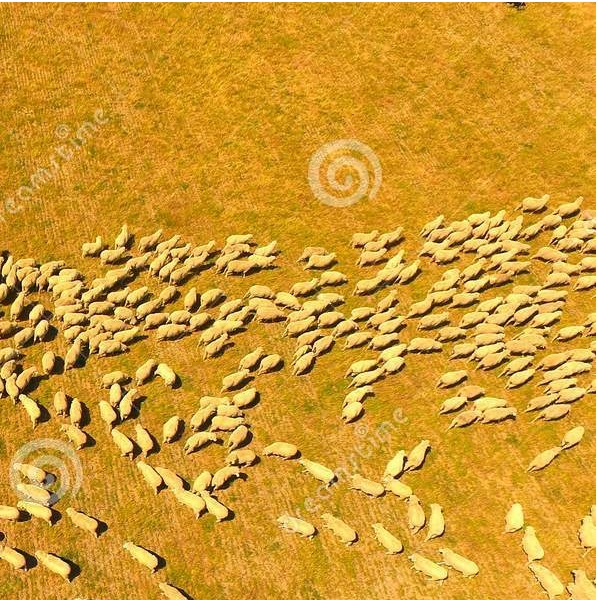sheep: (130, 456, 169, 495), (299, 457, 343, 491), (171, 484, 208, 519), (224, 385, 266, 415), (530, 400, 573, 428), (18, 498, 61, 526), (368, 337, 409, 365), (360, 328, 404, 354), (352, 302, 403, 324), (100, 426, 133, 460), (273, 313, 315, 339), (208, 409, 250, 435), (69, 503, 103, 535), (264, 439, 305, 465), (179, 431, 222, 455), (200, 491, 232, 523), (467, 338, 505, 364), (342, 353, 381, 378), (459, 256, 495, 283), (346, 274, 388, 297), (219, 443, 256, 469), (15, 393, 44, 426), (12, 457, 47, 484), (428, 244, 464, 270), (215, 243, 254, 267), (505, 337, 542, 362), (243, 305, 285, 327), (253, 241, 291, 265), (498, 355, 539, 377), (523, 391, 562, 414), (368, 310, 400, 338), (211, 466, 244, 493), (554, 193, 584, 222), (395, 259, 426, 287), (288, 342, 316, 373), (184, 403, 218, 428), (130, 293, 164, 318), (155, 465, 184, 494), (68, 340, 92, 375), (243, 294, 282, 315), (405, 294, 439, 318), (143, 305, 172, 333), (448, 405, 478, 432), (473, 349, 508, 372), (478, 406, 518, 426), (155, 317, 187, 342), (461, 314, 499, 335), (350, 368, 388, 389), (18, 480, 51, 504), (182, 305, 215, 329), (240, 348, 268, 376), (480, 312, 514, 335), (199, 332, 229, 358), (500, 368, 537, 389), (218, 366, 253, 388), (129, 420, 151, 455), (350, 248, 395, 265), (535, 350, 573, 370), (62, 423, 90, 450), (338, 382, 370, 405), (99, 368, 131, 391), (435, 323, 470, 344), (120, 390, 141, 425), (547, 255, 580, 277), (80, 235, 110, 259), (455, 305, 489, 326), (556, 358, 590, 379), (558, 426, 589, 449), (185, 284, 208, 315), (470, 393, 507, 412), (105, 320, 142, 339), (15, 366, 40, 394), (97, 400, 121, 429), (134, 227, 163, 251), (559, 231, 582, 261), (192, 324, 223, 346), (133, 358, 153, 392), (156, 362, 182, 388), (378, 354, 406, 378), (276, 288, 305, 311), (492, 289, 531, 306), (414, 311, 453, 328), (530, 285, 563, 305), (320, 268, 353, 288), (65, 398, 87, 428), (473, 295, 509, 313), (470, 330, 506, 348), (340, 400, 368, 423), (330, 317, 358, 340), (189, 471, 217, 494), (40, 258, 72, 278), (194, 390, 229, 408), (58, 283, 79, 313), (245, 281, 282, 298), (375, 264, 408, 283), (123, 282, 147, 308), (168, 241, 195, 264), (226, 258, 257, 278), (97, 248, 128, 268), (315, 306, 343, 328), (544, 377, 585, 392), (219, 233, 260, 248), (552, 386, 590, 402), (438, 369, 470, 388), (285, 279, 323, 295), (293, 330, 325, 349), (104, 265, 136, 284), (440, 265, 470, 285), (162, 415, 182, 445), (159, 282, 183, 307), (521, 219, 547, 242), (358, 236, 393, 253), (205, 316, 240, 333), (247, 253, 282, 270), (305, 253, 338, 271), (344, 301, 377, 319), (292, 298, 325, 316), (199, 286, 226, 308), (43, 352, 64, 380), (538, 365, 572, 382), (349, 229, 383, 246), (99, 340, 131, 358), (223, 423, 246, 448), (370, 284, 392, 310), (535, 244, 565, 263), (260, 353, 288, 373), (151, 249, 175, 272), (25, 303, 48, 327), (532, 311, 561, 330), (7, 373, 26, 402), (188, 240, 220, 257), (492, 248, 519, 268), (450, 291, 480, 309), (379, 225, 406, 245), (406, 335, 436, 353), (187, 254, 217, 272), (519, 194, 547, 213), (167, 307, 195, 326), (418, 236, 451, 252), (83, 298, 116, 314), (500, 238, 531, 255), (315, 288, 346, 305), (47, 279, 74, 298), (430, 287, 452, 310), (385, 246, 406, 270), (157, 234, 185, 252), (493, 303, 524, 319), (426, 213, 445, 239), (542, 270, 568, 289), (299, 245, 328, 262), (453, 386, 488, 400), (15, 264, 37, 286), (510, 305, 537, 322), (11, 252, 38, 269), (475, 240, 499, 259), (21, 272, 42, 293), (539, 209, 562, 228), (439, 397, 468, 412), (506, 279, 537, 293), (537, 300, 561, 318), (92, 274, 116, 292), (558, 326, 583, 343), (93, 313, 118, 330), (108, 285, 128, 306), (462, 236, 486, 253), (169, 268, 200, 281), (113, 226, 133, 246), (57, 307, 79, 325), (158, 257, 180, 275), (1, 317, 23, 335), (9, 292, 26, 315), (444, 228, 468, 244), (88, 332, 112, 348), (570, 224, 591, 242), (62, 322, 83, 340), (428, 225, 453, 240), (485, 223, 505, 241), (465, 211, 494, 223), (34, 321, 49, 344), (487, 209, 507, 225), (18, 327, 38, 343), (110, 387, 125, 408), (112, 303, 133, 318), (4, 269, 18, 290), (447, 217, 471, 229), (503, 216, 522, 231), (56, 271, 78, 281), (1, 288, 12, 305), (39, 270, 49, 283)
